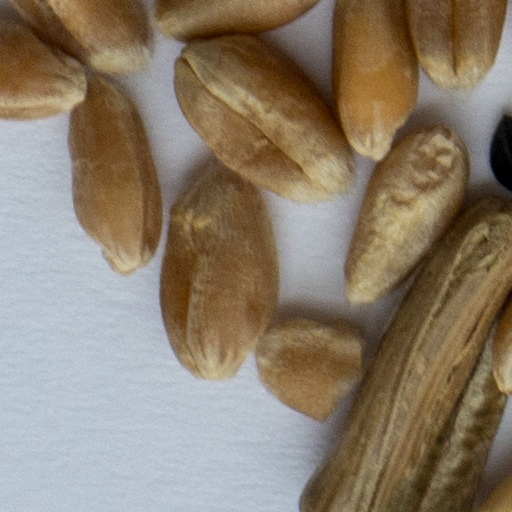Wheat-grain-damaged-poly: (254, 316, 368, 425)
